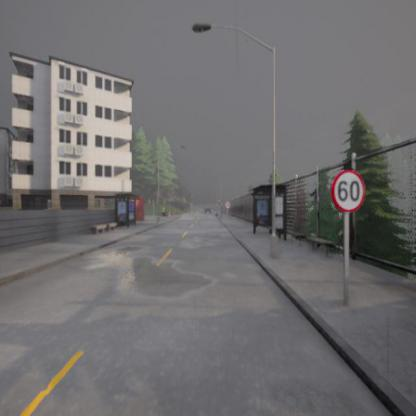traffic_sign_60: (331, 170, 365, 212)
